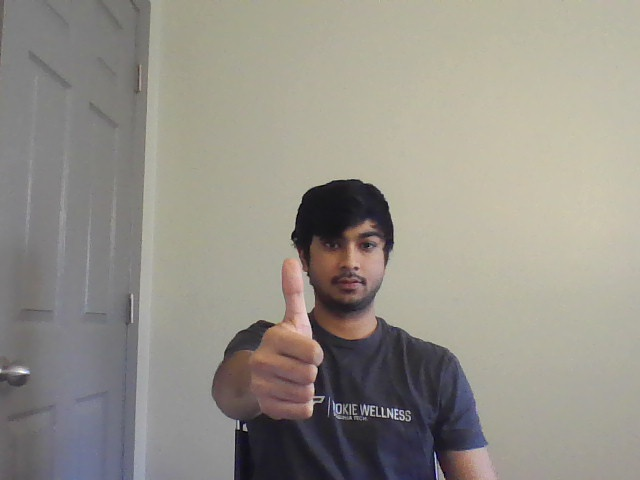confirm: (242, 253, 336, 425)
